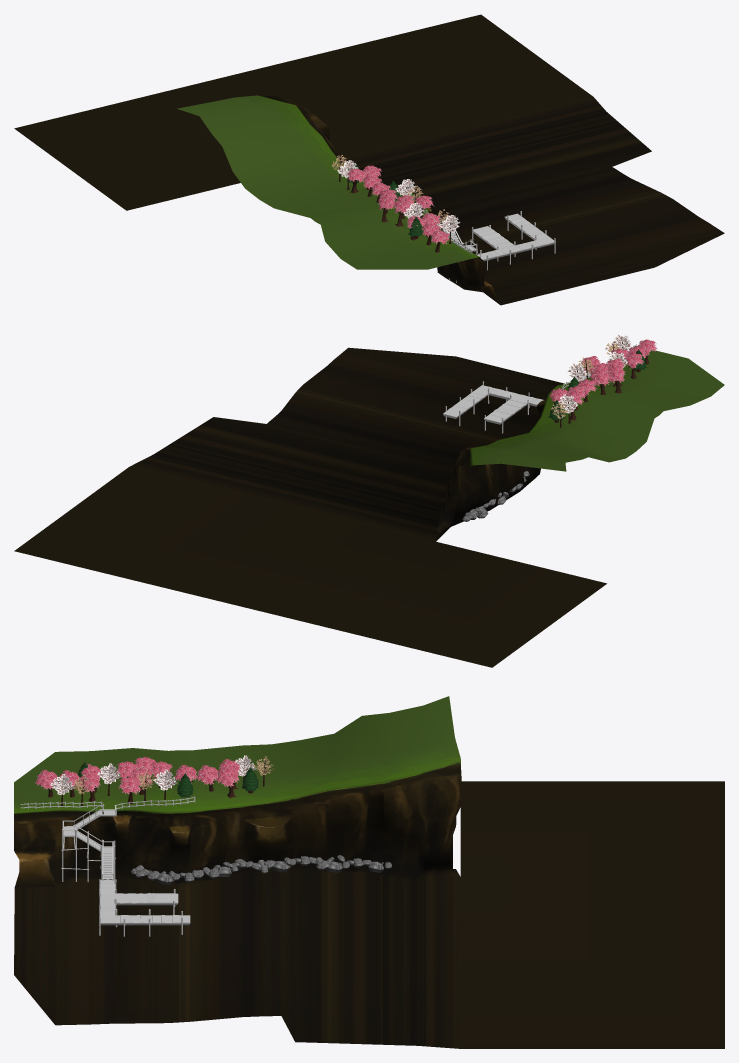
The model's file is dock_new.fbx.
3 views of the same model, one above another, from view 1: azimuth 30°, elevation 25°; view 2: azimuth 150°, elevation 25°; view 3: azimuth 270°, elevation 25° (orthographic). The views are drawn at different scales.
Visible parts, largest first — view 1: Cube.000, Cube.024, Cube.012; view 2: Cube.000, Cube.024, Cube.012; view 3: Cube.000, Cube.024, Cube.012, Cube.010.
Boxes of the visible parts, x1=… form: Cube.000: x1=14, y1=14, x2=724, y2=305; Cube.024: x1=331, y1=155, x2=460, y2=252; Cube.012: x1=437, y1=211, x2=555, y2=282; Cube.000: x1=14, y1=345, x2=724, y2=667; Cube.024: x1=548, y1=334, x2=657, y2=427; Cube.012: x1=443, y1=372, x2=590, y2=433; Cube.000: x1=14, y1=696, x2=724, y2=1048; Cube.024: x1=35, y1=755, x2=274, y2=805; Cube.012: x1=61, y1=805, x2=190, y2=936; Cube.010: x1=20, y1=796, x2=195, y2=809.
Size of the model in its own units: 8458 by 1648 by 9497.
